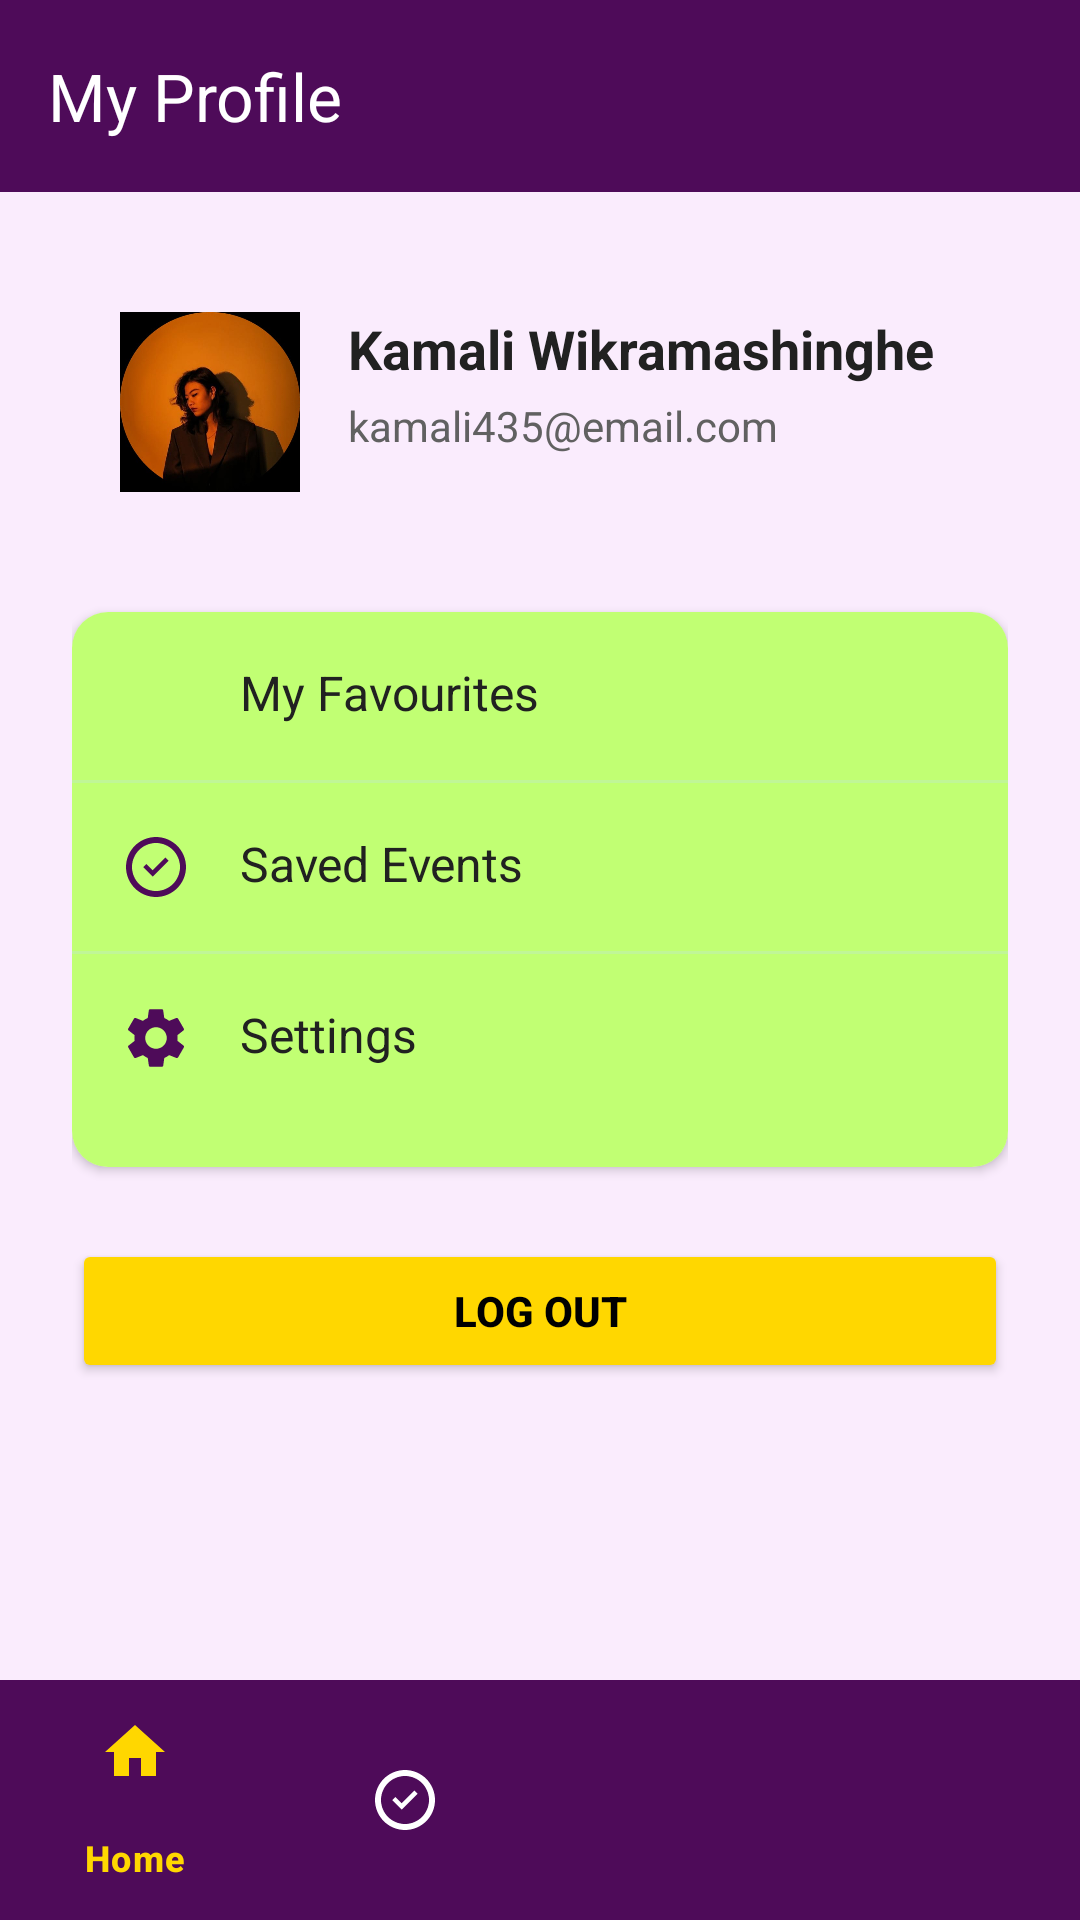

Icon click points for this 1080px x 1920px phone screenshot, format (x,y):
profile: (210,402)
